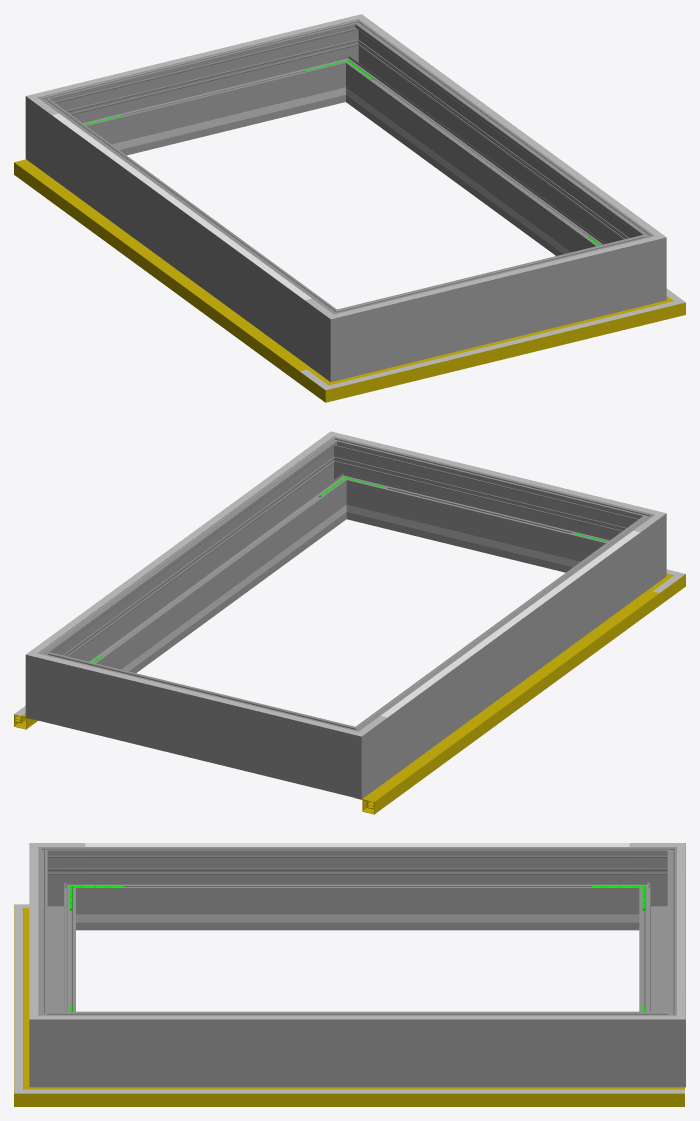
3 views of the same model, one above another, from view 1: azimuth 30°, elevation 25°; view 2: azimuth 150°, elevation 25°; view 3: azimuth 270°, elevation 25° (orthographic). The views are drawn at different scales.
Visible parts, largest first — view 1: 3DGeom-298, 3DGeom-269, 3DGeom-277, 3DGeom-299, 3DGeom-6, 3DGeom-271, 3DGeom-11, 3DGeom-291, 3DGeom-285, 3DGeom-279, 3DGeom-25, 3DGeom-314 (+8 smaller); view 2: 3DGeom-298, 3DGeom-269, 3DGeom-299, 3DGeom-277, 3DGeom-6, 3DGeom-279, 3DGeom-285, 3DGeom-291, 3DGeom-271, 3DGeom-25, 3DGeom-314, 3DGeom-304 (+4 smaller); view 3: 3DGeom-269, 3DGeom-298, 3DGeom-16, 3DGeom-291, 3DGeom-285, 3DGeom-277, 3DGeom-233, 3DGeom-299, 3DGeom-18, 3DGeom-271, 3DGeom-279, 3DGeom-304 (+12 smaller).
Boxes of the visible parts, left/top/right/bottom form: 3DGeom-298: left=350, top=35, right=639, bottom=255; 3DGeom-269: left=51, top=111, right=319, bottom=362; 3DGeom-277: left=75, top=28, right=338, bottom=155; 3DGeom-299: left=367, top=242, right=621, bottom=370; 3DGeom-6: left=14, top=159, right=311, bottom=383; 3DGeom-271: left=304, top=297, right=375, bottom=381; 3DGeom-11: left=364, top=308, right=640, bottom=391; 3DGeom-291: left=613, top=219, right=666, bottom=310; 3DGeom-285: left=321, top=14, right=382, bottom=104; 3DGeom-279: left=25, top=88, right=92, bottom=177; 3DGeom-25: left=14, top=160, right=306, bottom=370; 3DGeom-314: left=52, top=113, right=311, bottom=299; 3DGeom-298: left=53, top=451, right=342, bottom=672; 3DGeom-269: left=373, top=529, right=640, bottom=779; 3DGeom-299: left=354, top=445, right=617, bottom=572; 3DGeom-277: left=70, top=659, right=324, bottom=788; 3DGeom-6: left=355, top=590, right=659, bottom=814; 3DGeom-279: left=316, top=714, right=387, bottom=799; 3DGeom-285: left=25, top=637, right=78, bottom=728; 3DGeom-291: left=307, top=436, right=373, bottom=521; 3DGeom-271: left=600, top=502, right=666, bottom=594; 3DGeom-25: left=367, top=591, right=659, bottom=803; 3DGeom-314: left=380, top=530, right=639, bottom=717; 3DGeom-304: left=52, top=450, right=311, bottom=637; 3DGeom-269: left=85, top=847, right=629, bottom=930; 3DGeom-298: left=85, top=1011, right=629, bottom=1087; 3DGeom-16: left=70, top=1087, right=684, bottom=1106; 3DGeom-291: left=29, top=996, right=85, bottom=1087; 3DGeom-285: left=630, top=996, right=685, bottom=1087; 3DGeom-277: left=639, top=866, right=685, bottom=1011; 3DGeom-233: left=130, top=914, right=585, bottom=922; 3DGeom-299: left=38, top=866, right=75, bottom=1011; 3DGeom-18: left=70, top=1089, right=684, bottom=1093; 3DGeom-271: left=38, top=847, right=85, bottom=930; 3DGeom-279: left=630, top=843, right=685, bottom=930; 3DGeom-304: left=85, top=1015, right=629, bottom=1019.
Bounding box in the file's own units: 1.22 × 0.2434 × 1.83.
